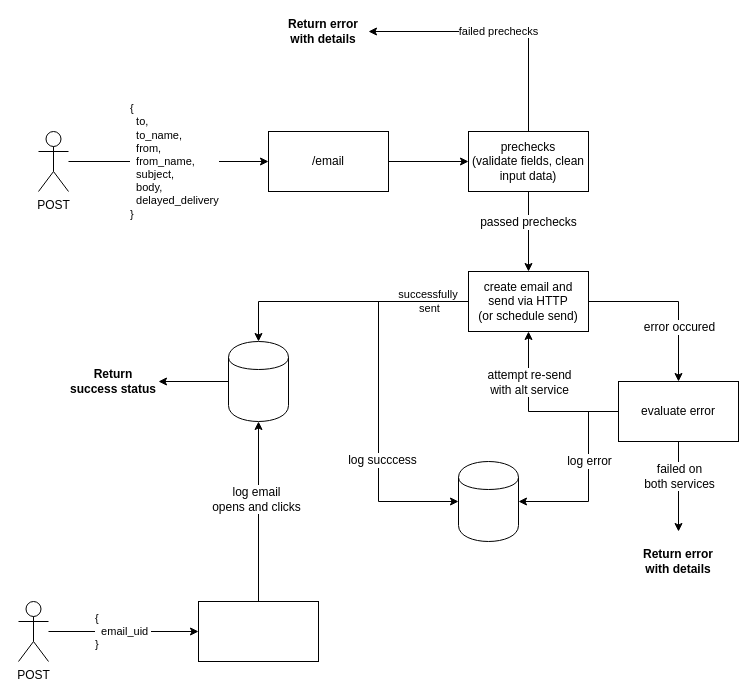
The diagram is 756 pixels wide and 700 high, and some of its shapes have lost their labels. Here are the shapes that lost their labels. From the top down, the centre of each, then its label:
At (x=258, y=381): "sent emails DB".
At (x=488, y=501): "logs".
At (x=258, y=631): "/analytics".
